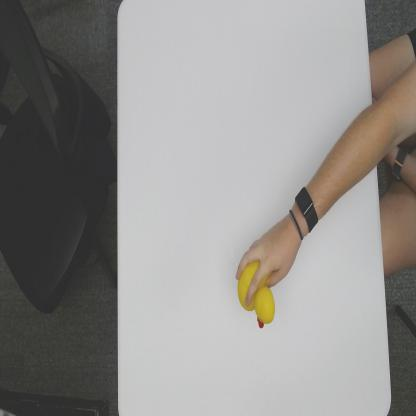Arm: (320, 106, 377, 218)
Duck: (239, 258, 277, 331)
Hand: (235, 216, 301, 303)
